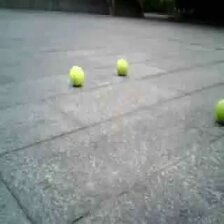tennis: (68, 65, 84, 86), (116, 59, 129, 74), (215, 100, 224, 121)
